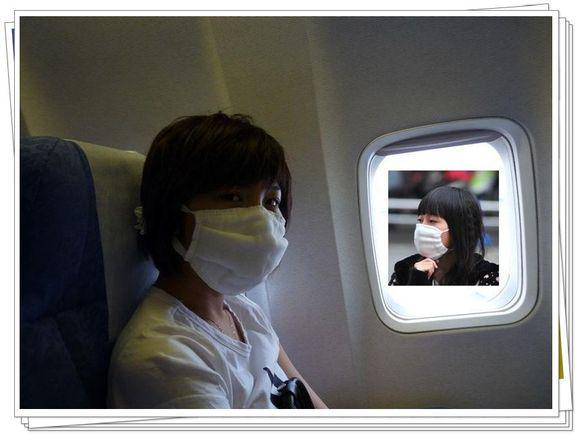OK: (177, 173, 298, 294), (416, 209, 456, 257)
